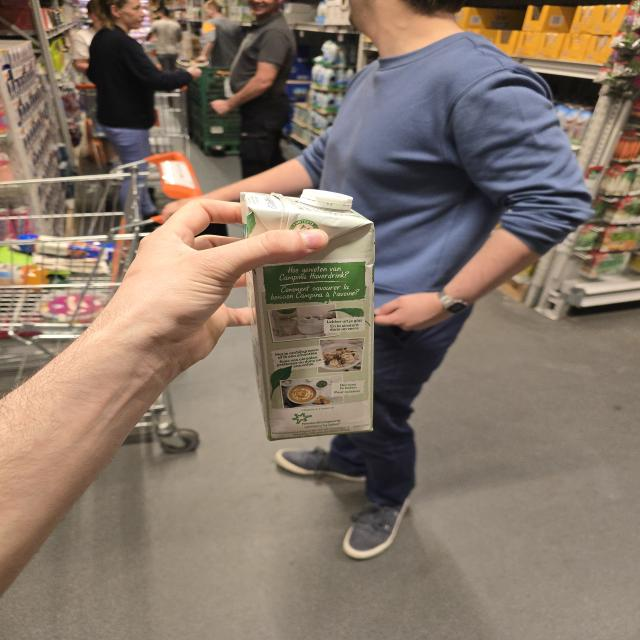Milk: (241, 192, 373, 440)
